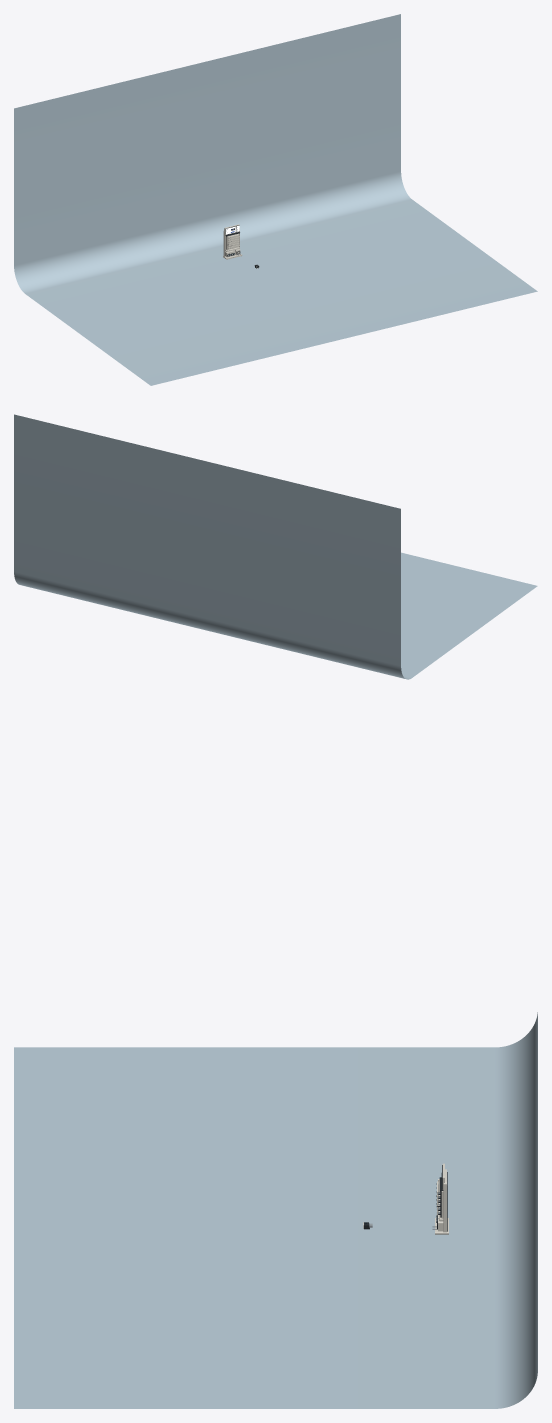
Rendered from change-proof-static-spike.glb.
3 views of the same model, one above another, from view 1: azimuth 30°, elevation 25°; view 2: azimuth 150°, elevation 25°; view 3: azimuth 270°, elevation 25° (orthographic). The views are drawn at different scales.
Visible parts, largest first — view 1: Seamless cyclorama; view 2: Seamless cyclorama; view 3: Seamless cyclorama.
Part boxes in pixels (<box>): Seamless cyclorama: <box>14,14,537,385</box>; Seamless cyclorama: <box>14,414,537,679</box>; Seamless cyclorama: <box>14,1012,537,1408</box>.
Bounding box in the file's own units: 160 × 70.03 × 98.
